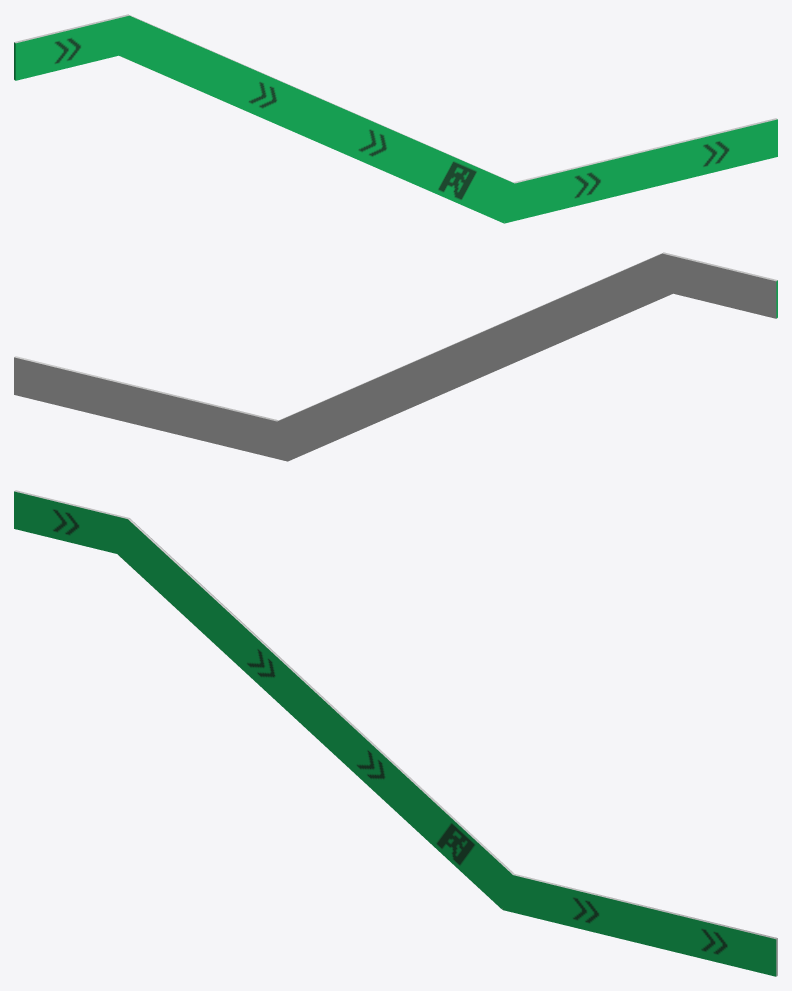
The model's file is Emergency_Exit_Curve.fbx.
3 renders of one model, top to bottom at view 1: azimuth 30°, elevation 25°; view 2: azimuth 150°, elevation 25°; view 3: azimuth 330°, elevation 25°, orthographic.
Parts seen in each view (by area): view 1: Emergency_Exit__7_.002; view 2: Emergency_Exit__7_.002; view 3: Emergency_Exit__7_.002.
Boxes of the visible parts, x1,y1,x2,y2 form: Emergency_Exit__7_.002: (14, 14, 777, 223); Emergency_Exit__7_.002: (14, 252, 777, 461); Emergency_Exit__7_.002: (14, 490, 777, 976).
Bounding box in the file's own units: 511 × 192 × 2.
